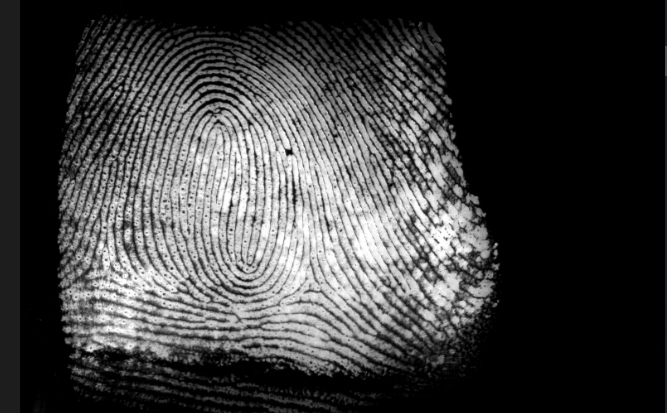deltas: (72, 218, 139, 304), (283, 242, 339, 306)
nucleo: (200, 109, 271, 271)
